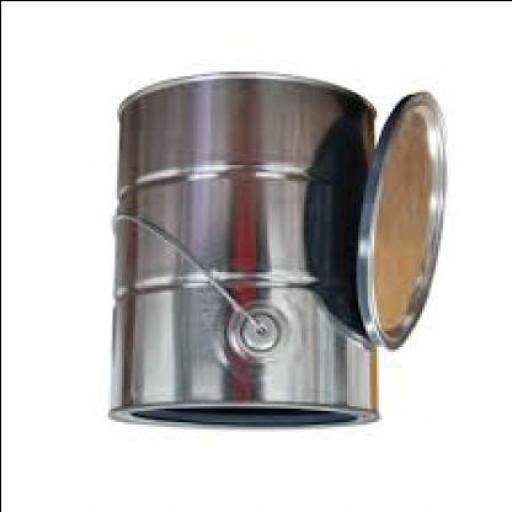metal: (104, 75, 376, 430), (350, 88, 444, 350)
